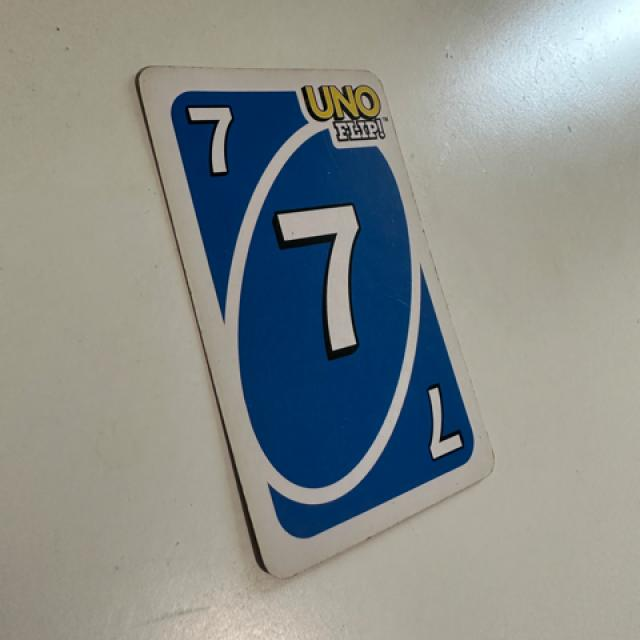lblue-7: (176, 78, 256, 201)
